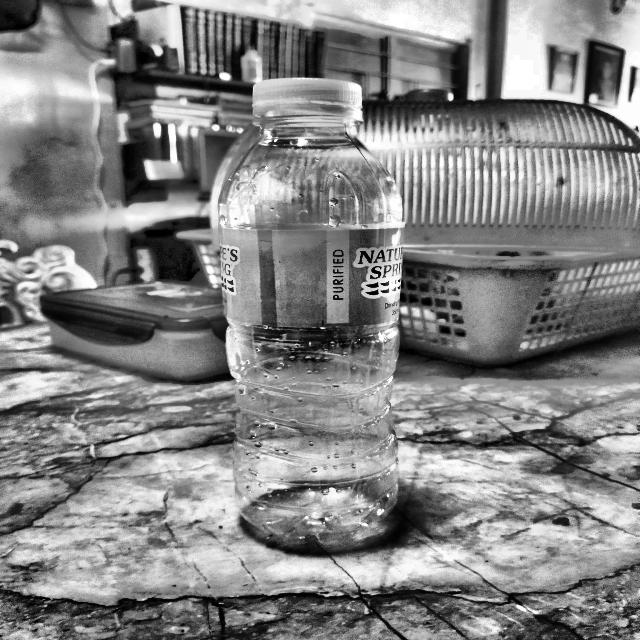Plastic-Bottle: (211, 75, 404, 553)
